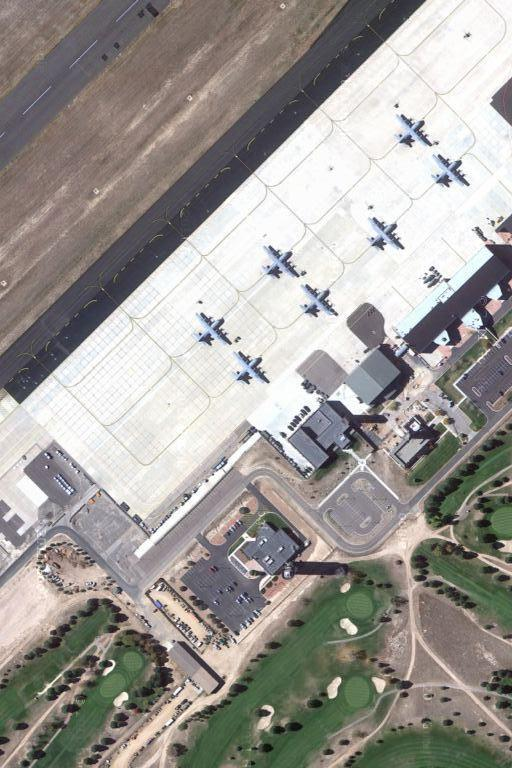C-130: (364, 215, 404, 255), (230, 348, 269, 389), (431, 152, 469, 192), (264, 242, 300, 283), (194, 313, 231, 352), (396, 112, 432, 151), (301, 283, 337, 320)
